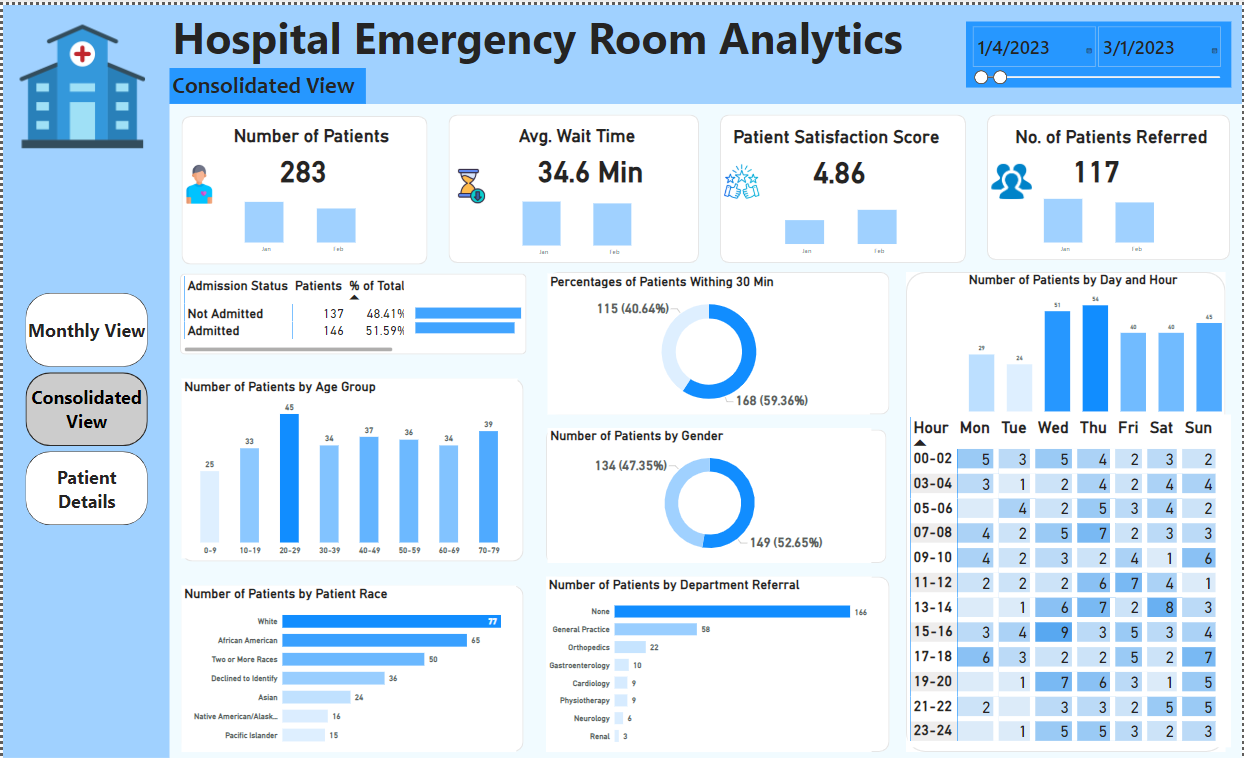

The dashboard page shown, as its layout file describes it:
{"tool":"powerbi","page":{"name":"Consolidated View","canvas":[2300,1400],"ordinal":1},"visuals":[{"type":"shape","box":[0,0,309.2,1398.2],"z":0},{"type":"shape","box":[295.2,0,2005.3,183.8],"z":1000},{"type":"textbox","box":[309.2,0,1384.2,130.9],"z":2000},{"type":"textbox","box":[309.2,117,364.9,66.8],"z":3000},{"type":"shape","box":[331.4,206.1,456.8,275.7],"z":4000},{"type":"card","fields":{"Values":["Hospital ER_Data.Number of Patients"]},"box":[470.7,261.8,172.7,80.8],"z":5000},{"type":"shape","box":[827.2,203.3,465.1,275.7],"z":6000},{"type":"slicer","fields":{"Values":["Date Table.Date"]},"box":[1788.1,30.6,493,122.5],"z":7000},{"type":"textbox","box":[423.4,217.2,325.9,58.5],"z":8000},{"type":"columnChart","fields":{"Category":["Date Table.Month"],"Y":["Hospital ER_Data.Number of Patients"]},"box":[323.1,328.7,465.1,142],"z":9000},{"type":"shape","box":[1331.3,203.3,456.8,275.7],"z":10000},{"type":"shape","box":[1827.1,203.3,451.2,270.2],"z":11000},{"type":"textbox","box":[952.5,217.2,247.9,58.5],"z":12000},{"type":"textbox","box":[1350.8,220,406.6,86.3],"z":13000},{"type":"textbox","box":[1874.4,220,403.9,58.5],"z":14000},{"type":"card","fields":{"Values":["Hospital ER_Data.Avg Wait Time"]},"box":[966.5,253.5,247.9,97.5],"z":15000},{"type":"columnChart","fields":{"Category":["Date Table.Month"],"Y":["Avg(Hospital ER_Data.Patient Waittime)"]},"box":[841.1,339.8,456.8,136.5],"z":16000},{"type":"card","fields":{"Values":["Hospital ER_Data.Satisfaction Score"]},"box":[1428.8,256.2,247.9,97.5],"z":17000},{"type":"shape","box":[328.7,498.6,643.4,150.4],"z":18000},{"type":"columnChart","fields":{"Category":["Date Table.Month"],"Y":["Sum(Hospital ER_Data.Patient Satisfaction Score)"]},"box":[1325.8,337,467.9,136.5],"z":19000},{"type":"card","fields":{"Values":["Hospital ER_Data.No of Patients Referred"]},"box":[1905.1,253.5,247.9,97.5],"z":20000},{"type":"columnChart","fields":{"Y":["Hospital ER_Data.No of Patients Referred"],"Category":["Date Table.Month"]},"box":[1807.6,320.3,462.3,150.4],"z":21000},{"type":"pivotTable","title":"Patient Admission Status","fields":{"Rows":["Hospital ER_Data.Admission Status"],"Values":["Hospital ER_Data.Number of Patients1","Hospital ER_Data.Number of Patients"]},"box":[331.4,498.6,417.8,150.4],"z":22000},{"type":"shape","box":[331.4,693.5,635,339.8],"z":23000},{"type":"barChart","fields":{"Category":["Hospital ER_Data.Admission Status"],"Y":["Hospital ER_Data.Number of Patients"]},"box":[760.4,534.8,211.7,94.7],"z":24000},{"type":"clusteredColumnChart","fields":{"Category":["Hospital ER_Data.Age Group"],"Y":["Hospital ER_Data.Number of Patients"]},"box":[331.4,693.5,623.9,334.2],"z":25000},{"type":"shape","box":[1011,1061.2,635,325.9],"z":26000},{"type":"clusteredBarChart","fields":{"Category":["Hospital ER_Data.Department Referral"],"Y":["Hospital ER_Data.Number of Patients"]},"box":[1008.2,1061.2,604.4,325.9],"z":27000},{"type":"shape","box":[1008.2,788.2,632.2,247.9],"z":28000},{"type":"shape","box":[1013.8,495.8,632.2,264.6],"z":29000},{"type":"donutChart","title":"Percentages of Patients Withing 30 Min","fields":{"Y":["Hospital ER_Data.Number of Patients"],"Category":["Hospital ER_Data.Wait Time"]},"box":[1011,498.6,598.8,261.8],"z":30000},{"type":"donutChart","title":"Number of Patients by Gender","fields":{"Y":["Hospital ER_Data.Number of Patients"],"Category":["Hospital ER_Data.Patient Gender"]},"box":[1011,785.4,601.6,250.7],"z":31000},{"type":"shape","box":[331.4,1077.9,635,309.2],"z":32000},{"type":"clusteredBarChart","fields":{"Y":["Hospital ER_Data.Number of Patients"],"Category":["Hospital ER_Data.Patient Race"]},"box":[331.4,1077.9,621.1,309.2],"z":33000},{"type":"shape","box":[1676.7,495.8,593.2,891.3],"z":34000},{"type":"pivotTable","fields":{"Rows":["Hospital ER_Data.Waittime Interval"],"Columns":["Date Table.Day Name"],"Values":["Hospital ER_Data.Number of Patients"]},"box":[1678.7,761.7,600.4,618.3],"z":35000},{"type":"columnChart","title":"Number of Patients by Day and Hour","fields":{"Y":["Hospital ER_Data.Number of Patients"],"Category":["Date Table.Day Name"]},"box":[1788.1,495.8,481.8,264.6],"z":36000},{"type":"image","box":[322.6,287.8,82.2,91.7],"z":37000},{"type":"image","box":[828.6,294.1,79.1,82.2],"z":38000},{"type":"image","box":[1325.2,291,91.7,75.9],"z":39000},{"type":"image","box":[1828.1,291,91.7,75.9],"z":40000},{"type":"pageNavigator","box":[41.1,534.5,227.7,433.3],"z":40001},{"type":"image","box":[25.3,28.5,243.5,246.7],"z":40002}]}

Visuals, with their boxes in screenshot pixels (x1, y1, x2, y2), scaled from the page's 2300x1400 canvas onto the 1244x758 screenshot:
shape: [x1=0, y1=0, x2=167, y2=757]
shape: [x1=160, y1=0, x2=1243, y2=100]
textbox: [x1=167, y1=0, x2=916, y2=71]
textbox: [x1=167, y1=63, x2=365, y2=100]
shape: [x1=179, y1=112, x2=426, y2=261]
card - Hospital ER_Data.Number of Patients: [x1=255, y1=142, x2=348, y2=185]
shape: [x1=447, y1=110, x2=699, y2=259]
slicer - Date Table.Date: [x1=967, y1=17, x2=1234, y2=83]
textbox: [x1=229, y1=118, x2=405, y2=149]
columnChart - Date Table.Month x Hospital ER_Data.Number of Patients: [x1=175, y1=178, x2=426, y2=255]
shape: [x1=720, y1=110, x2=967, y2=259]
shape: [x1=988, y1=110, x2=1232, y2=256]
textbox: [x1=515, y1=118, x2=649, y2=149]
textbox: [x1=731, y1=119, x2=951, y2=166]
textbox: [x1=1014, y1=119, x2=1232, y2=151]
card - Hospital ER_Data.Avg Wait Time: [x1=523, y1=137, x2=657, y2=190]
columnChart - Date Table.Month x Avg(Hospital ER_Data.Patient Waittime): [x1=455, y1=184, x2=702, y2=258]
card - Hospital ER_Data.Satisfaction Score: [x1=773, y1=139, x2=907, y2=192]
shape: [x1=178, y1=270, x2=526, y2=351]
columnChart - Date Table.Month x Sum(Hospital ER_Data.Patient Satisfaction Score): [x1=717, y1=182, x2=970, y2=256]
card - Hospital ER_Data.No of Patients Referred: [x1=1030, y1=137, x2=1164, y2=190]
columnChart - Hospital ER_Data.No of Patients Referred x Date Table.Month: [x1=978, y1=173, x2=1228, y2=255]
"Patient Admission Status" pivotTable: [x1=179, y1=270, x2=405, y2=351]
shape: [x1=179, y1=375, x2=523, y2=559]
barChart - Hospital ER_Data.Admission Status x Hospital ER_Data.Number of Patients: [x1=411, y1=290, x2=526, y2=341]
clusteredColumnChart - Hospital ER_Data.Age Group x Hospital ER_Data.Number of Patients: [x1=179, y1=375, x2=517, y2=556]
shape: [x1=547, y1=575, x2=890, y2=751]
clusteredBarChart - Hospital ER_Data.Department Referral x Hospital ER_Data.Number of Patients: [x1=545, y1=575, x2=872, y2=751]
shape: [x1=545, y1=427, x2=887, y2=561]
shape: [x1=548, y1=268, x2=890, y2=412]
"Percentages of Patients Withing 30 Min" donutChart: [x1=547, y1=270, x2=871, y2=412]
"Number of Patients by Gender" donutChart: [x1=547, y1=425, x2=872, y2=561]
shape: [x1=179, y1=584, x2=523, y2=751]
clusteredBarChart - Hospital ER_Data.Number of Patients x Hospital ER_Data.Patient Race: [x1=179, y1=584, x2=515, y2=751]
shape: [x1=907, y1=268, x2=1228, y2=751]
pivotTable - Hospital ER_Data.Waittime Interval x Date Table.Day Name: [x1=908, y1=412, x2=1233, y2=747]
"Number of Patients by Day and Hour" columnChart: [x1=967, y1=268, x2=1228, y2=412]
image: [x1=174, y1=156, x2=219, y2=205]
image: [x1=448, y1=159, x2=491, y2=204]
image: [x1=717, y1=158, x2=766, y2=199]
image: [x1=989, y1=158, x2=1038, y2=199]
pageNavigator: [x1=22, y1=289, x2=145, y2=524]
image: [x1=14, y1=15, x2=145, y2=149]
